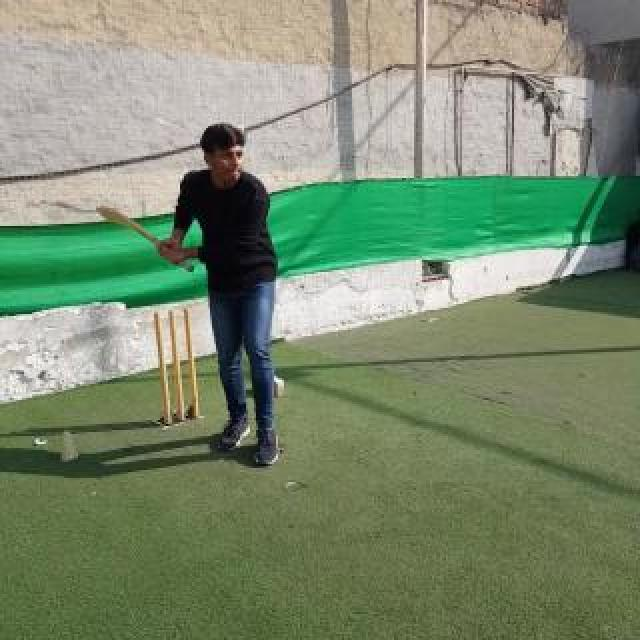bat: (96, 206, 194, 274)
